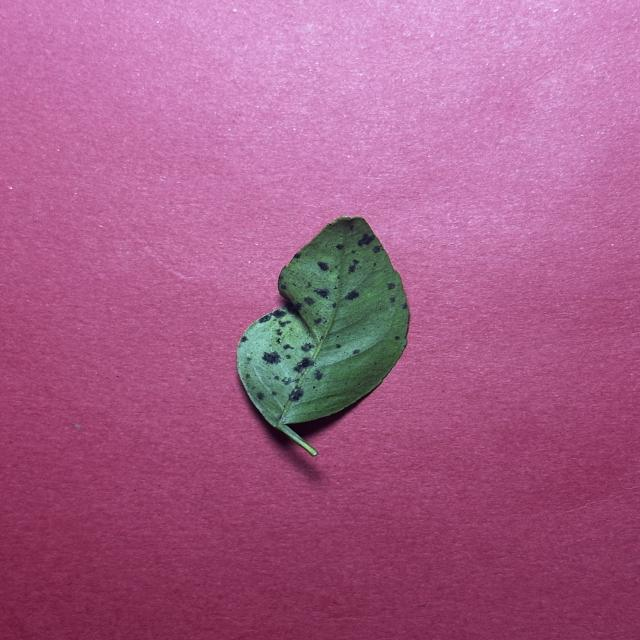sooty_mold: (237, 218, 409, 455)
